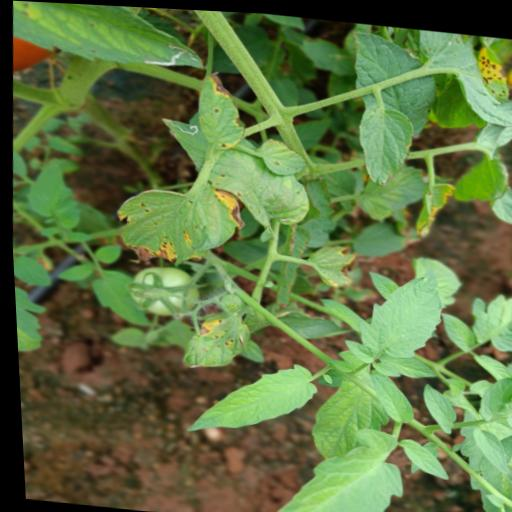Early Blight: (106, 175, 250, 272), (172, 304, 255, 374), (354, 97, 417, 185), (192, 65, 251, 150), (255, 133, 312, 176)
Healthy: (364, 369, 414, 422), (392, 434, 445, 477), (416, 378, 456, 431), (466, 421, 508, 469)
